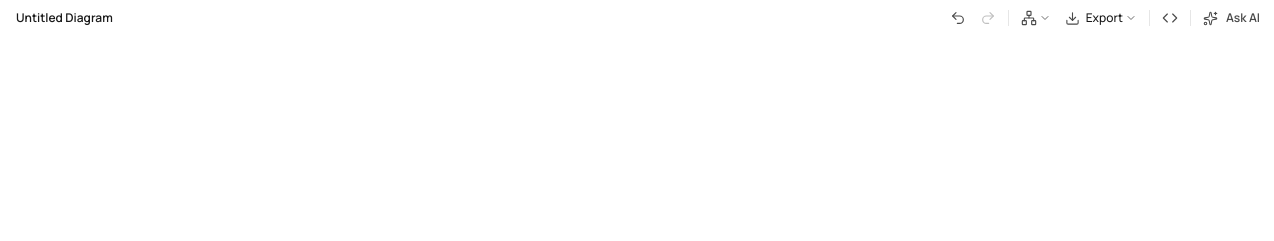
Test: Export ▾ (T17) › exports only the whole document even with a selection — selection export is the canvas context menu (#139)
Click the button "Export".
click(1101, 18)  # box [1059, 4, 1143, 32]
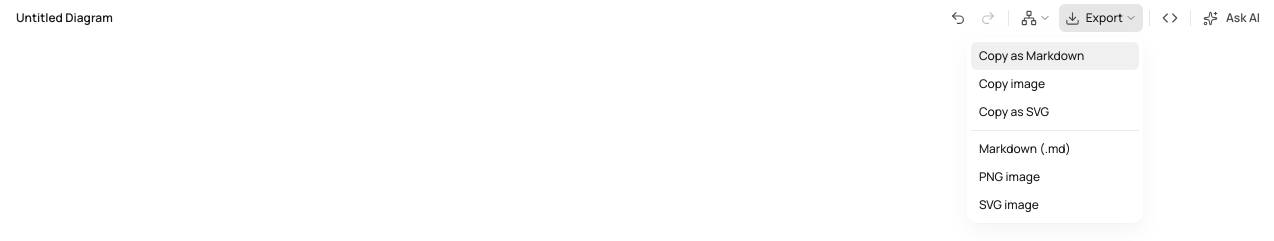
Expected: the number of menu items "Markdown (.md)" is 1, [971, 135, 1139, 163]
